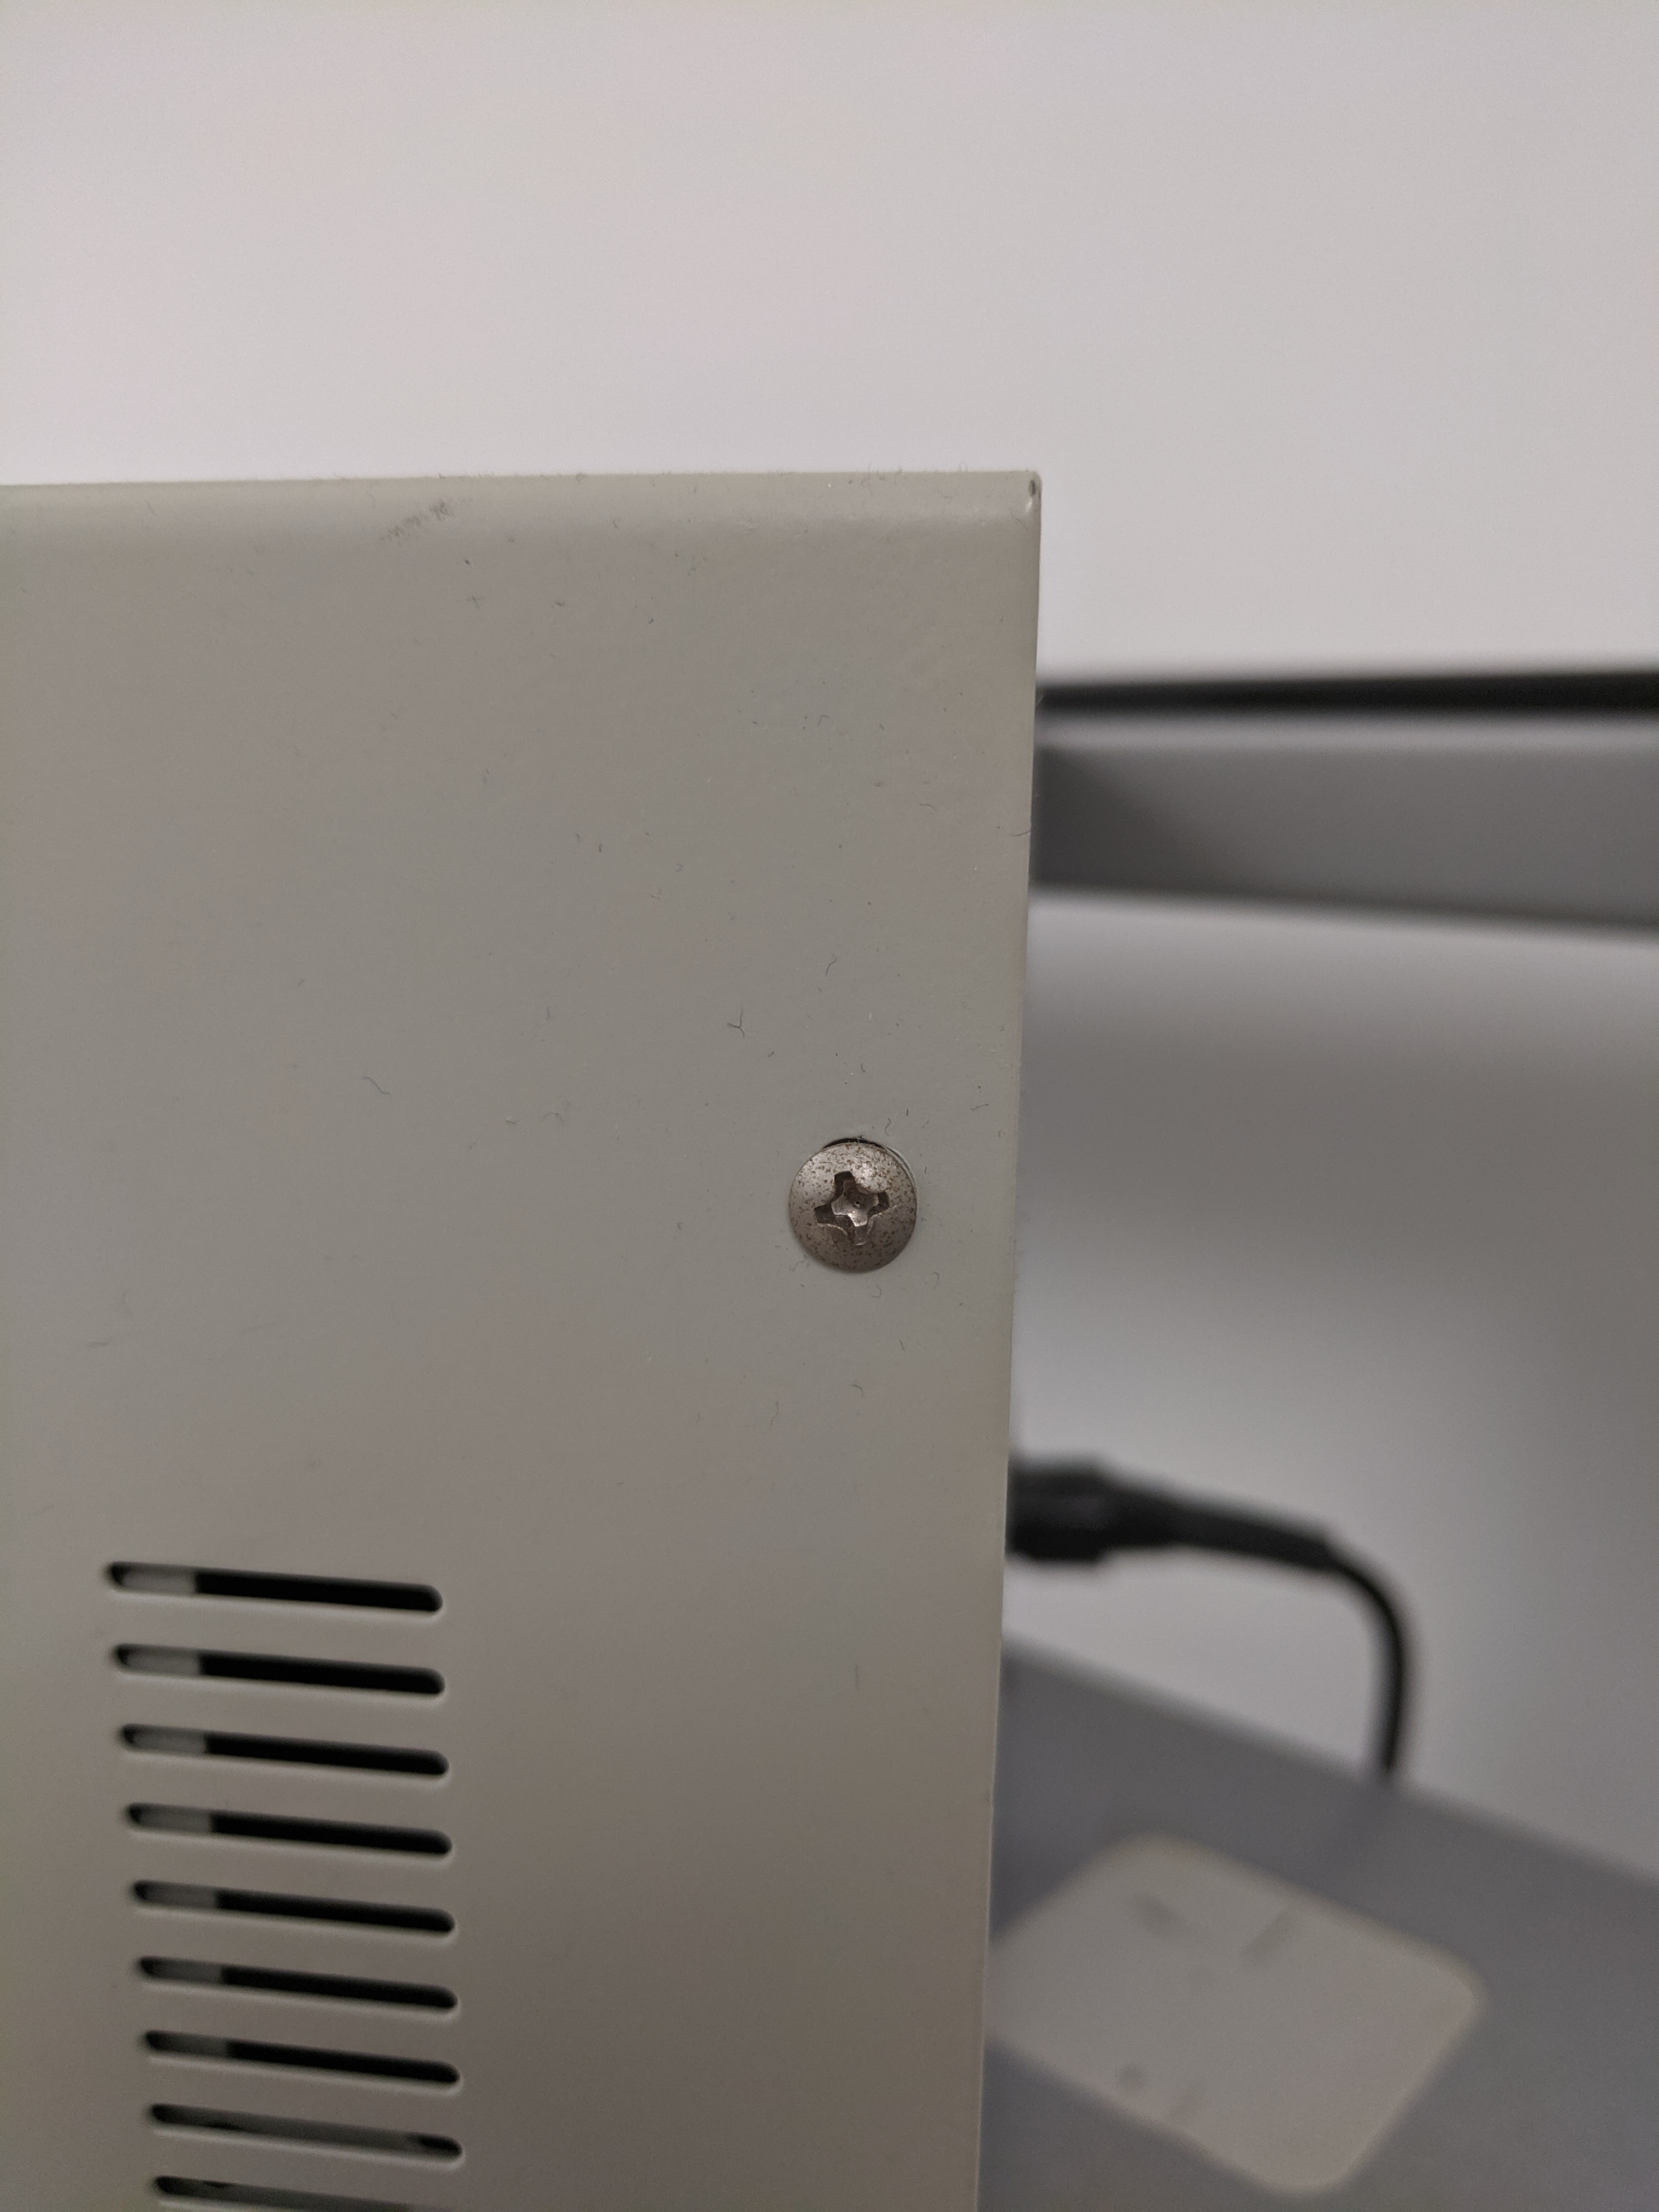cross_recessed_screw: (779, 1141, 915, 1264)
